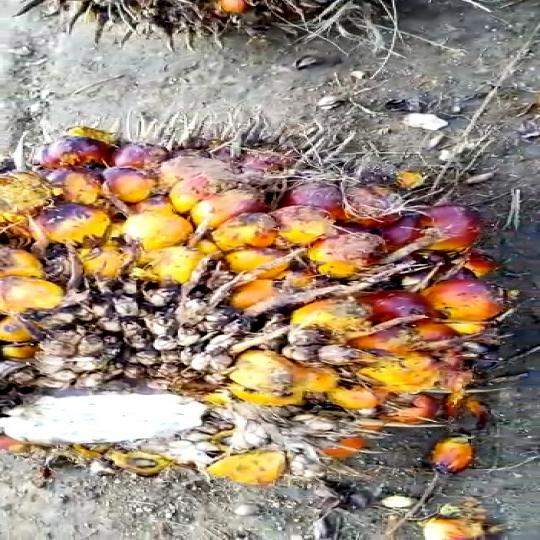masak: (0, 114, 540, 492)
